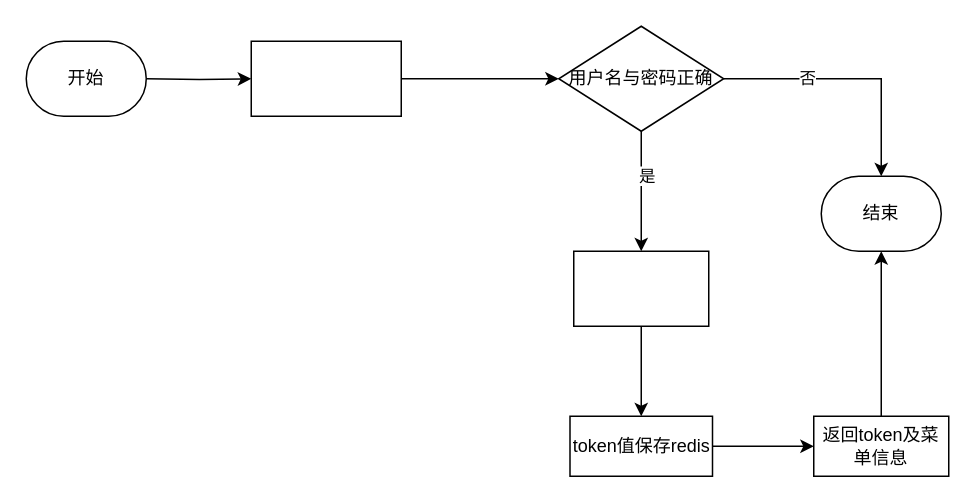
The diagram is 975 pixels wide and 503 high, and some of its shapes have lost their labels. Here are the shapes that lost their labels. From the top down, the box of each, then its label:
(250, 40, 401, 116): 请求登录
(572, 250, 709, 326): oauth密码模式生成token
